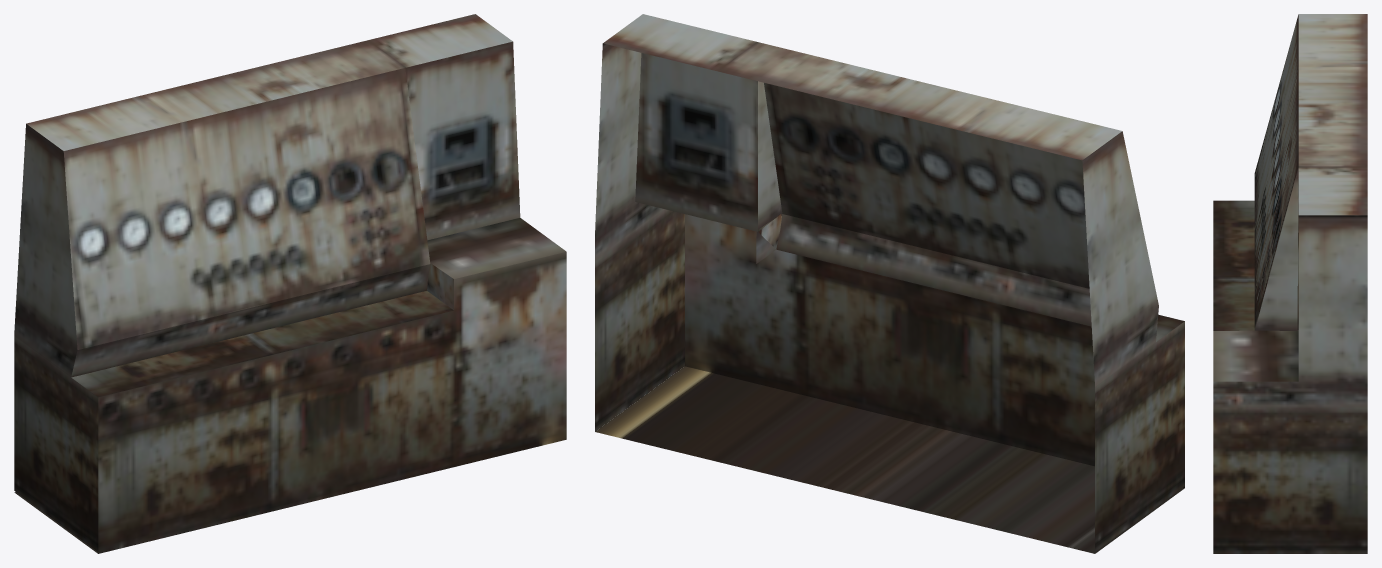
File: sewer_console.FBX
3 views of the same model, side by side, from view 1: azimuth 30°, elevation 25°; view 2: azimuth 150°, elevation 25°; view 3: azimuth 270°, elevation 25° (orthographic). The views are drawn at different scales.
Parts seen in each view (by area): view 1: sewer_console; view 2: sewer_console; view 3: sewer_console.
Boxes of the visible parts, x1,y1,x2,y2 form: sewer_console: (14, 14, 566, 553); sewer_console: (595, 14, 1184, 553); sewer_console: (1213, 14, 1367, 553).
Size of the model in its own units: 177 by 132 by 55.08.
